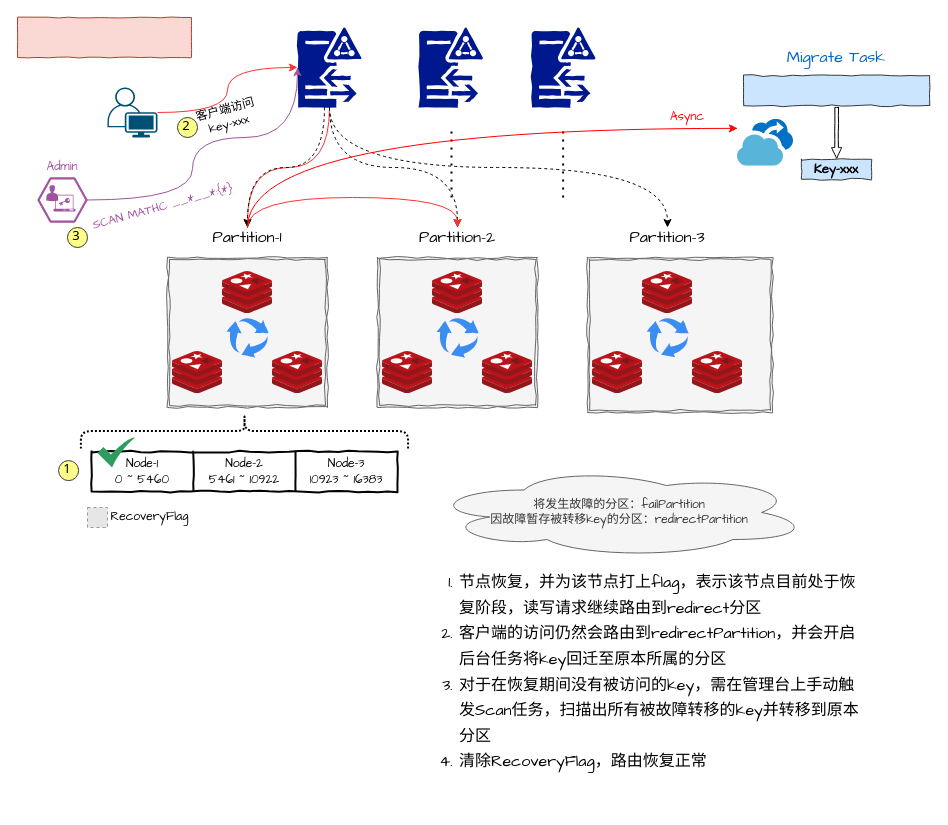
Some shapes in this 948 by 825 pixel diagram are drawn without their labels. Grey dashed boxes stand in for pictures. Here are the shapes that lost their labels. From the top down, the centre of each, then its label:
At (x=104, y=37): "恢复阶段示意图".
At (x=836, y=90): "__Partition-1__Partition-2:{Key-xxx}".
